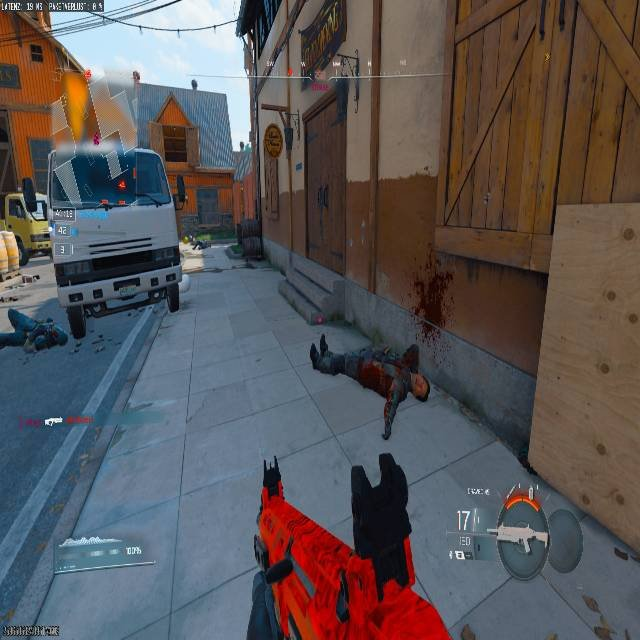head: (410, 373, 431, 401), (402, 344, 419, 370), (51, 330, 68, 346)
player: (309, 335, 430, 440)
